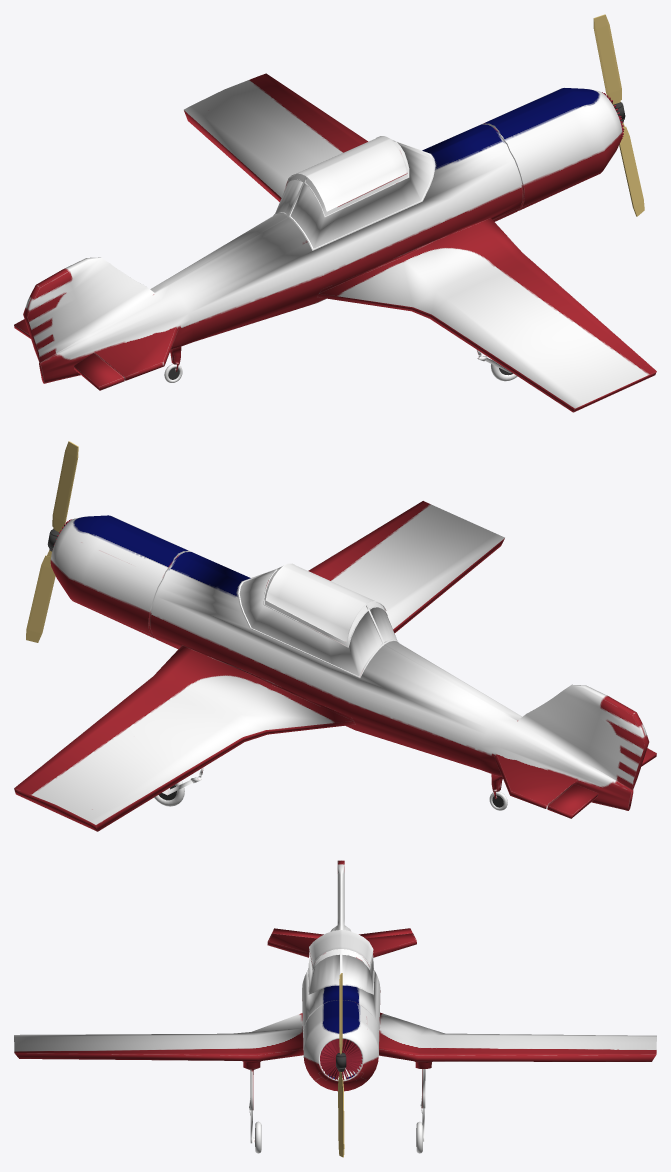
File: Yak.gltf
3 views of the same model, one above another, from view 1: azimuth 30°, elevation 25°; view 2: azimuth 150°, elevation 25°; view 3: azimuth 270°, elevation 25° (orthographic). The views are drawn at different scales.
Visible parts, largest first — view 1: Cylinder, Cube, Cube.001; view 2: Cylinder, Cube.001, Cube; view 3: Cylinder, Cylinder.001, Cube.001.
Boxes of the visible parts, x1,y1,x2,y2 form: Cylinder: (14,73,656,412); Cube: (593,14,621,104); Cube.001: (619,123,644,216); Cylinder: (14,501,656,831); Cube.001: (26,550,55,642); Cube: (52,441,78,531); Cylinder: (14,860,656,1143); Cylinder.001: (320,1039,362,1080); Cube.001: (338,1071,344,1157).
Size of the model in its own units: 14.32 by 6.45 by 16.
Materials: 6 (1 with a texture image).
